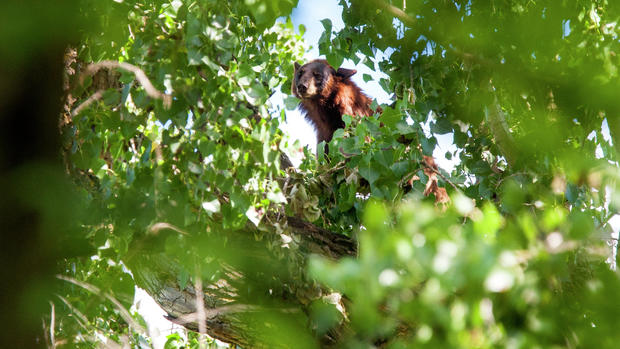bear: (289, 58, 359, 101)
